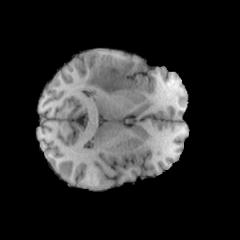glioma: (85, 56, 135, 93)
